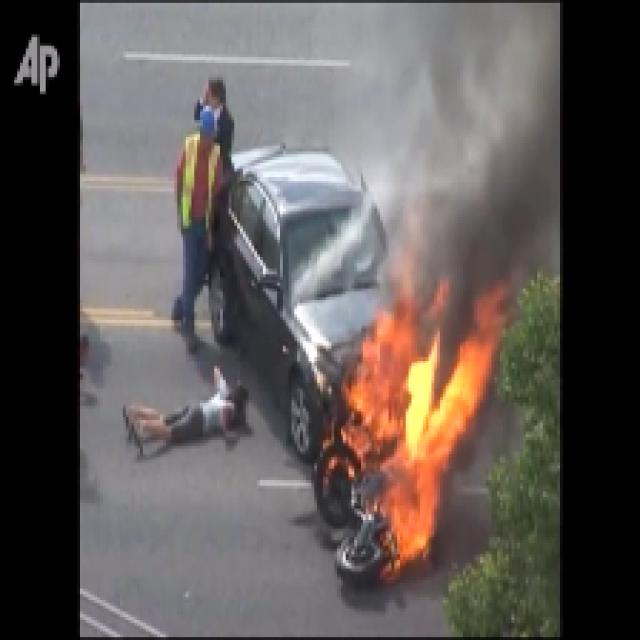fire: (350, 326, 462, 584)
smoke: (414, 24, 552, 308)
